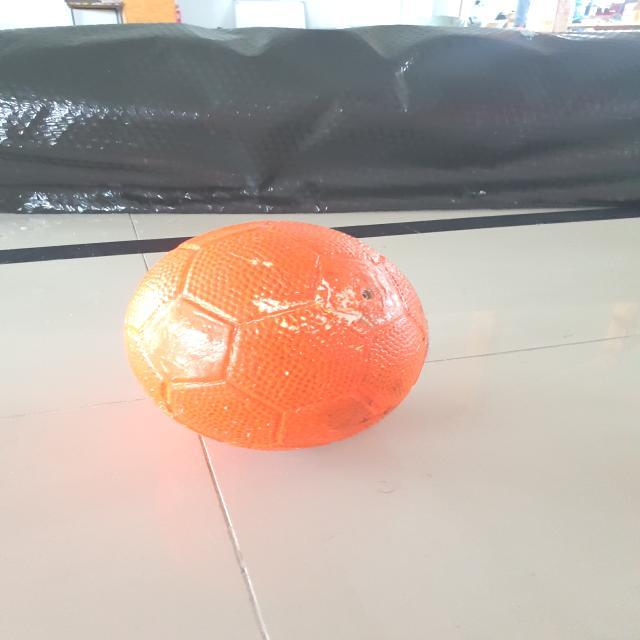bola: (114, 209, 442, 459)
